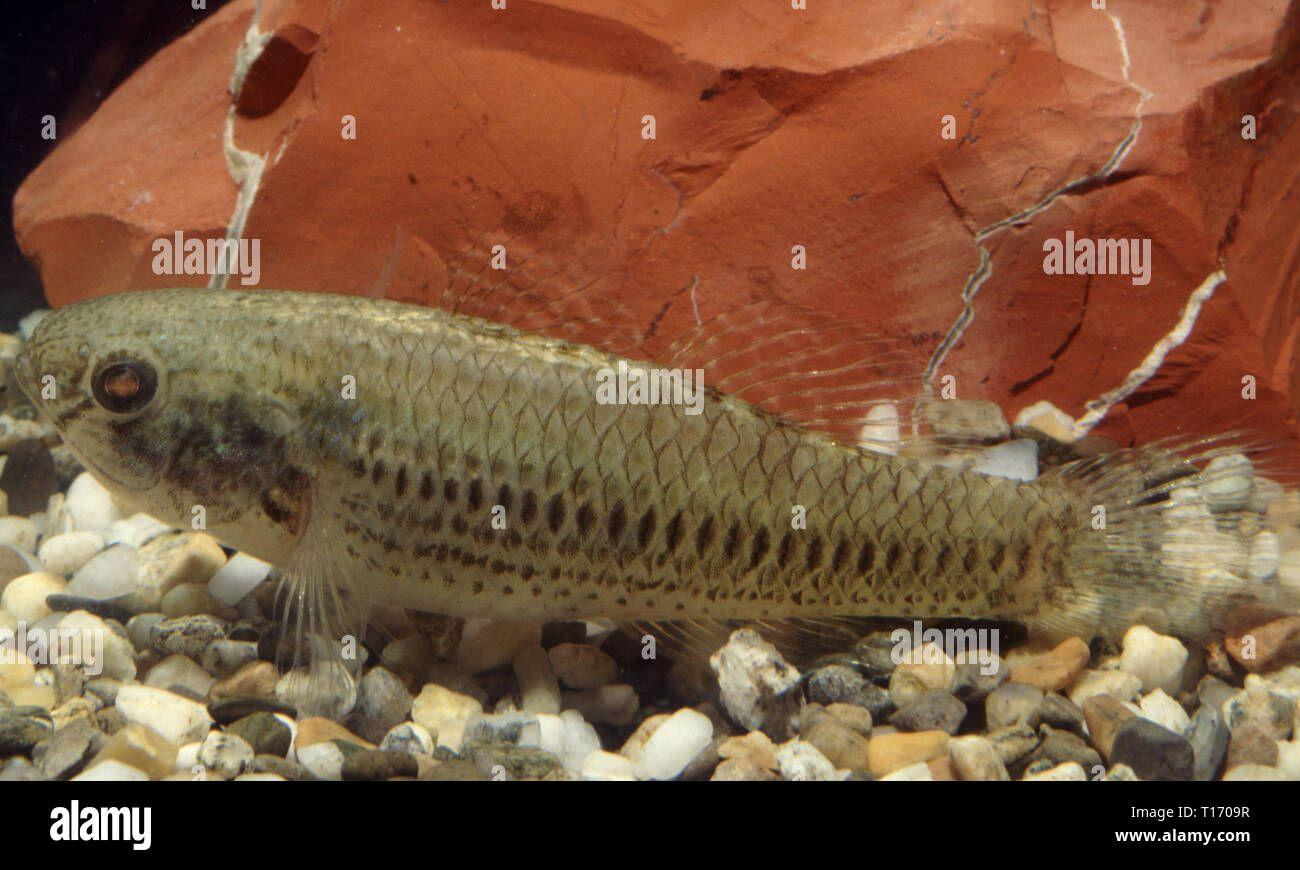Goby: (31, 285, 1268, 720)
